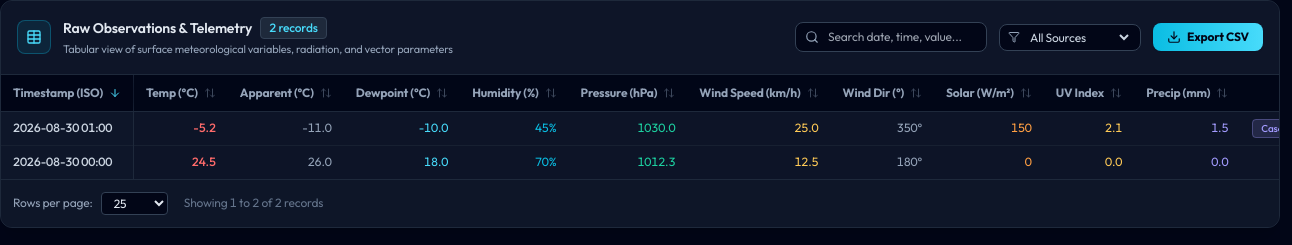
Test: RawDataTable Component Suite › filters rows by source type
The width and height of the screenshot is (1292, 245).
Select "Automated Sync" in the dropdown with test id "source-filter-select" at [1079, 37], box [1026,29,1132,46]
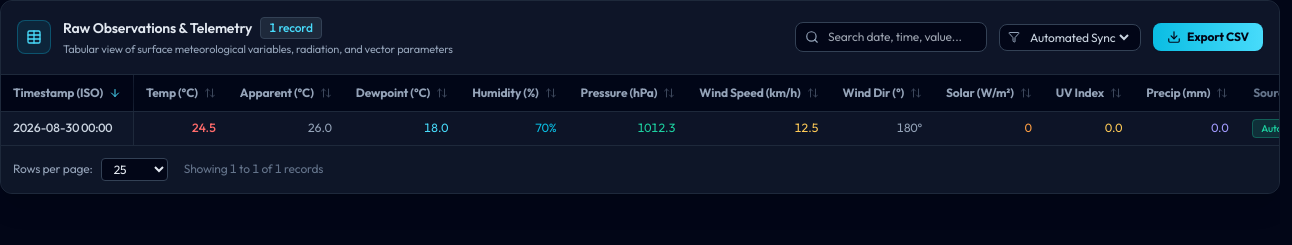
Expected: the text "2026-08-30 00:00" is shown, [1,111,134,144]
Now the text "2026-08-30 01:00" is gone
